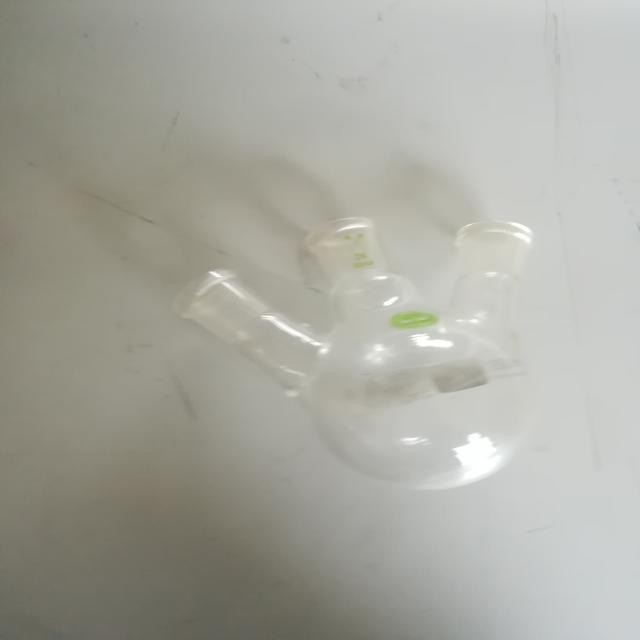Round_Bottom_Flask_Borosilicate_Glass_3_Neck: (127, 174, 594, 528)
